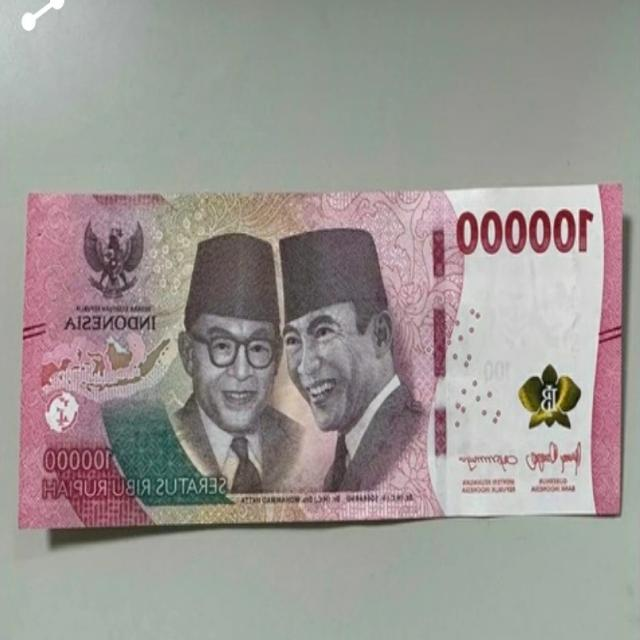seratus ribu rupiah: (17, 184, 623, 528)
